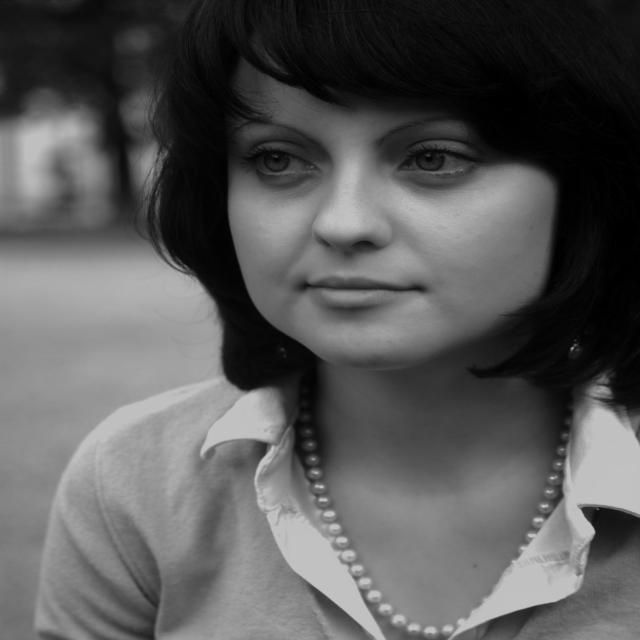no-glass: (250, 143, 480, 195)
